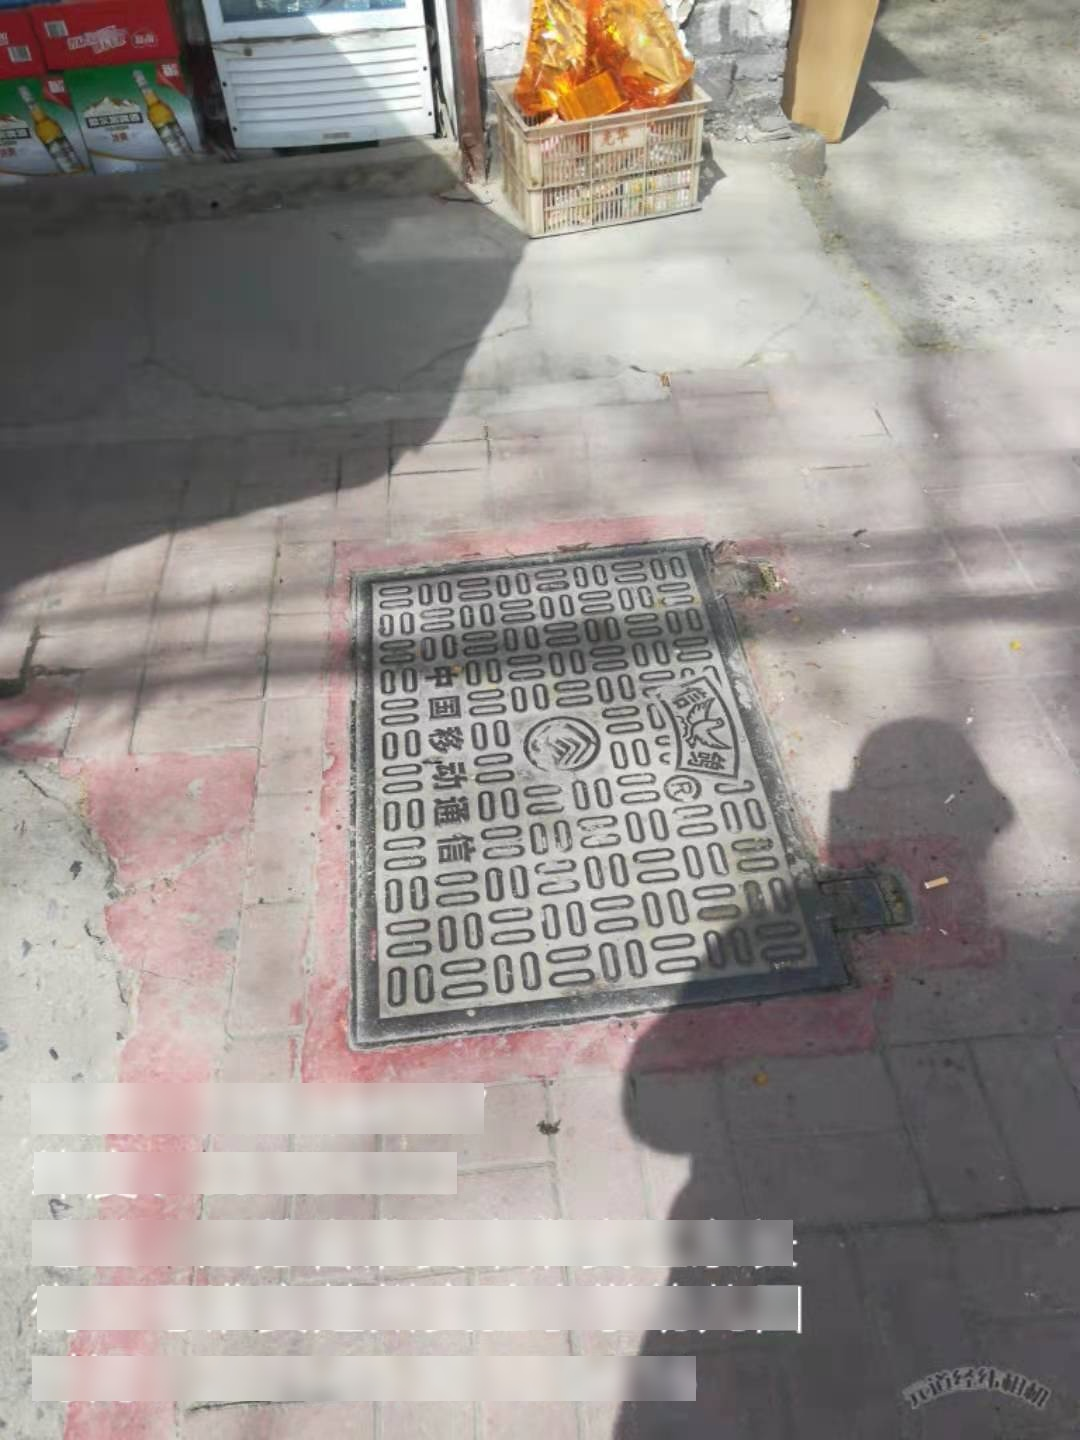good: (351, 532, 916, 1054)
